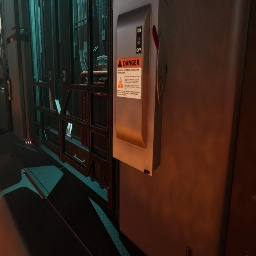EmergencyPhone ,: (6, 75, 13, 100)
SafetySwitchPanel ,: (112, 0, 168, 176)
